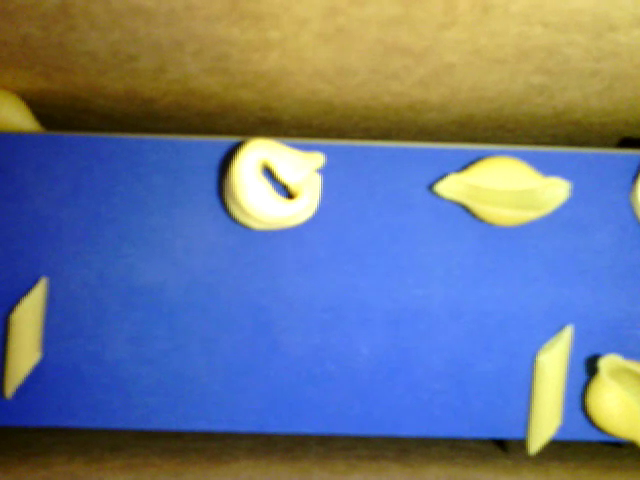penne: (522, 324, 573, 455), (1, 272, 51, 404)
shell: (430, 152, 571, 231), (580, 350, 639, 447), (1, 91, 59, 134)
tortellini: (217, 136, 327, 233)
